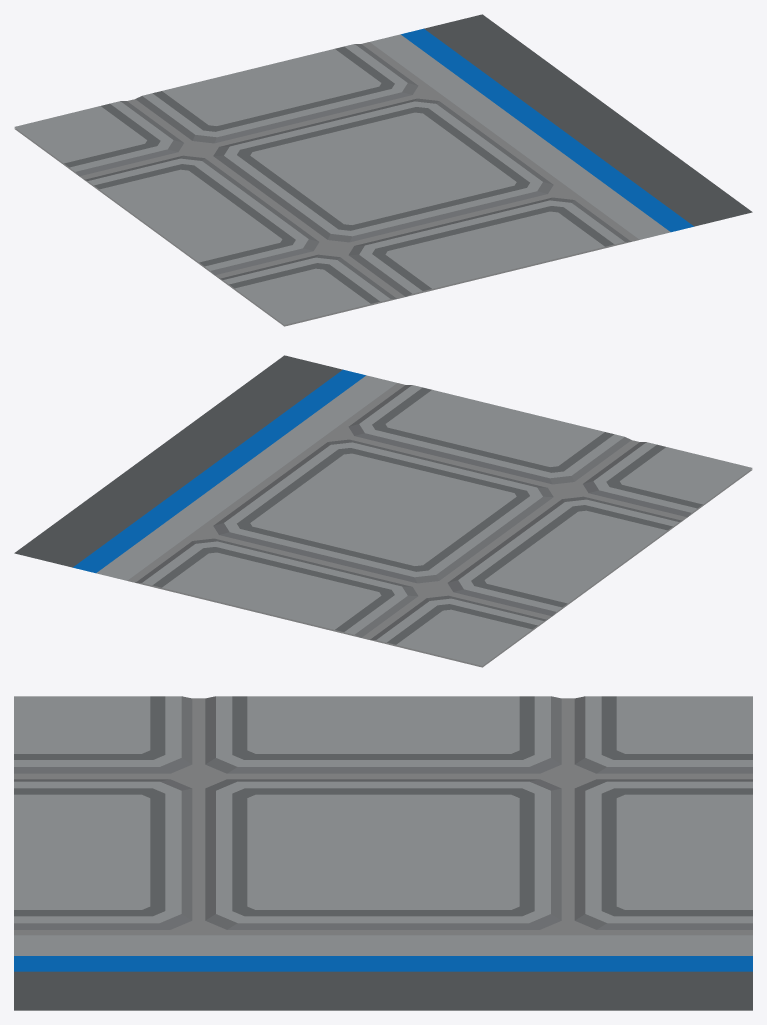
File: Floor_type_B_032.fbx
3 views of the same model, one above another, from view 1: azimuth 30°, elevation 25°; view 2: azimuth 150°, elevation 25°; view 3: azimuth 270°, elevation 25° (orthographic). The views are drawn at different scales.
Visible parts, largest first — view 1: Floor_type_B_032; view 2: Floor_type_B_032; view 3: Floor_type_B_032.
Boxes of the visible parts, x1,y1,x2,y2 form: Floor_type_B_032: (14,14,752,326); Floor_type_B_032: (14,355,752,667); Floor_type_B_032: (14,696,752,1010).
Size of the model in its own units: 400 by 400 by 1.34.
